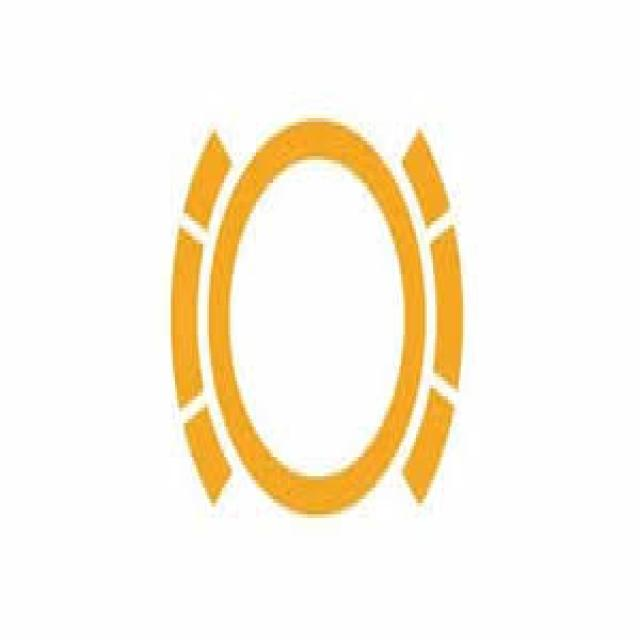kontrolka: (165, 107, 475, 520)
